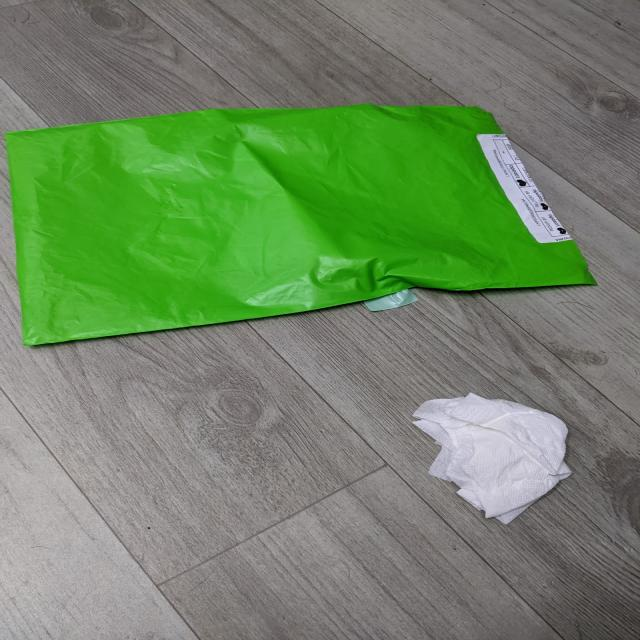bag: (7, 105, 596, 349)
napkin: (407, 390, 576, 528)
